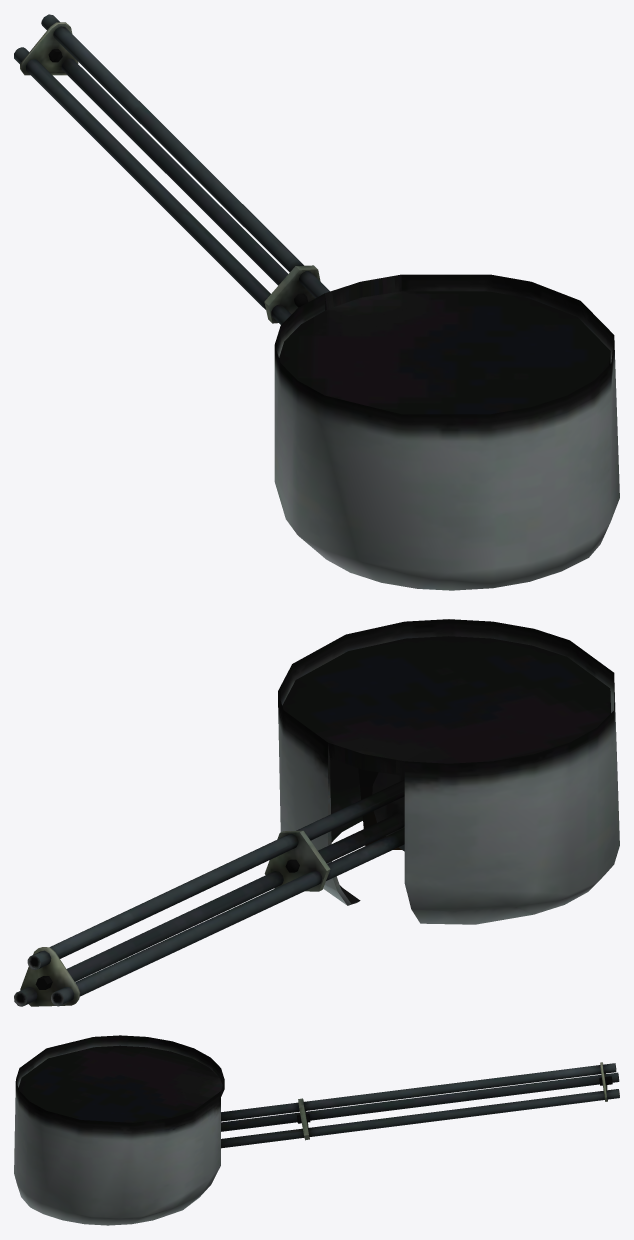
The picture shows the model from 3 angles, top to bottom: view 1: azimuth 30°, elevation 25°; view 2: azimuth 150°, elevation 25°; view 3: azimuth 270°, elevation 25°; orthographic projection. The views are drawn at different scales.
Parts seen in each view (by area): view 1: Gun, minigun; view 2: Gun, minigun; view 3: Gun, minigun.
Part boxes in pixels (left/top/right/bottom): Gun: left=274, top=274, right=619, bottom=590; minigun: left=14, top=14, right=329, bottom=324; Gun: left=278, top=619, right=619, bottom=924; minigun: left=14, top=768, right=404, bottom=1006; Gun: left=14, top=1035, right=224, bottom=1225; minigun: left=221, top=1062, right=619, bottom=1148.
Size of the model in its own units: 1.83 by 1.24 by 5.32.
1 material, 1 textured.
